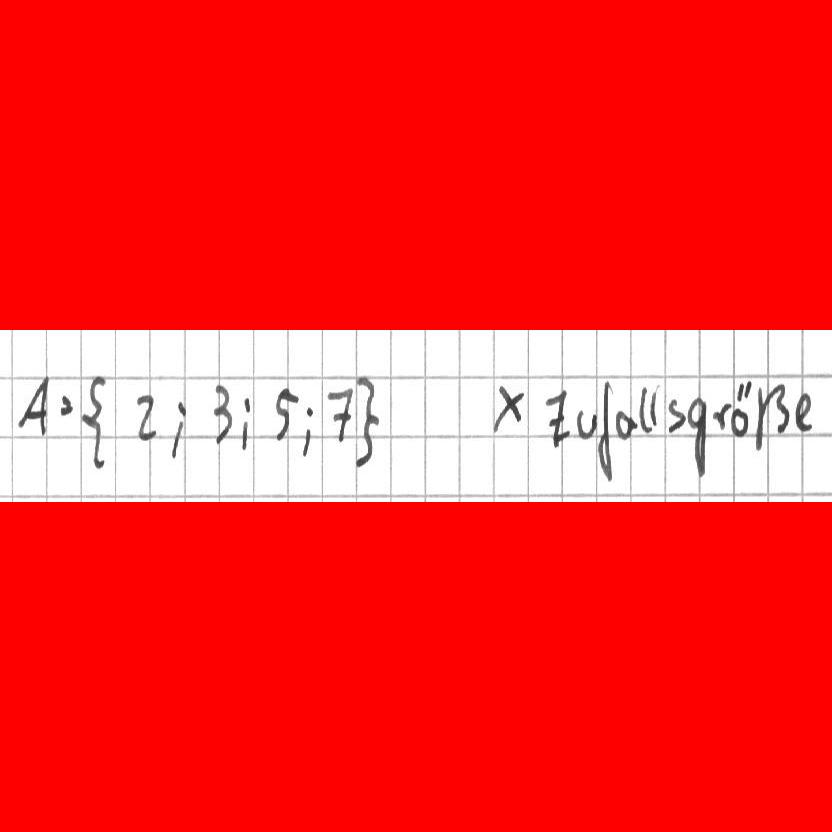Char: (79, 373, 116, 473), (353, 375, 385, 470), (752, 382, 792, 455), (13, 373, 51, 438), (595, 377, 615, 484), (685, 393, 708, 483), (491, 381, 528, 435), (544, 387, 573, 449), (324, 386, 354, 445), (210, 382, 235, 448), (272, 383, 299, 441), (729, 377, 752, 442), (131, 393, 159, 442), (167, 394, 187, 461), (792, 388, 815, 435), (664, 396, 688, 436), (637, 381, 651, 439), (575, 407, 598, 441), (301, 404, 315, 458), (615, 407, 636, 441), (241, 393, 252, 451), (711, 400, 730, 433), (649, 380, 658, 432), (58, 393, 74, 421)
